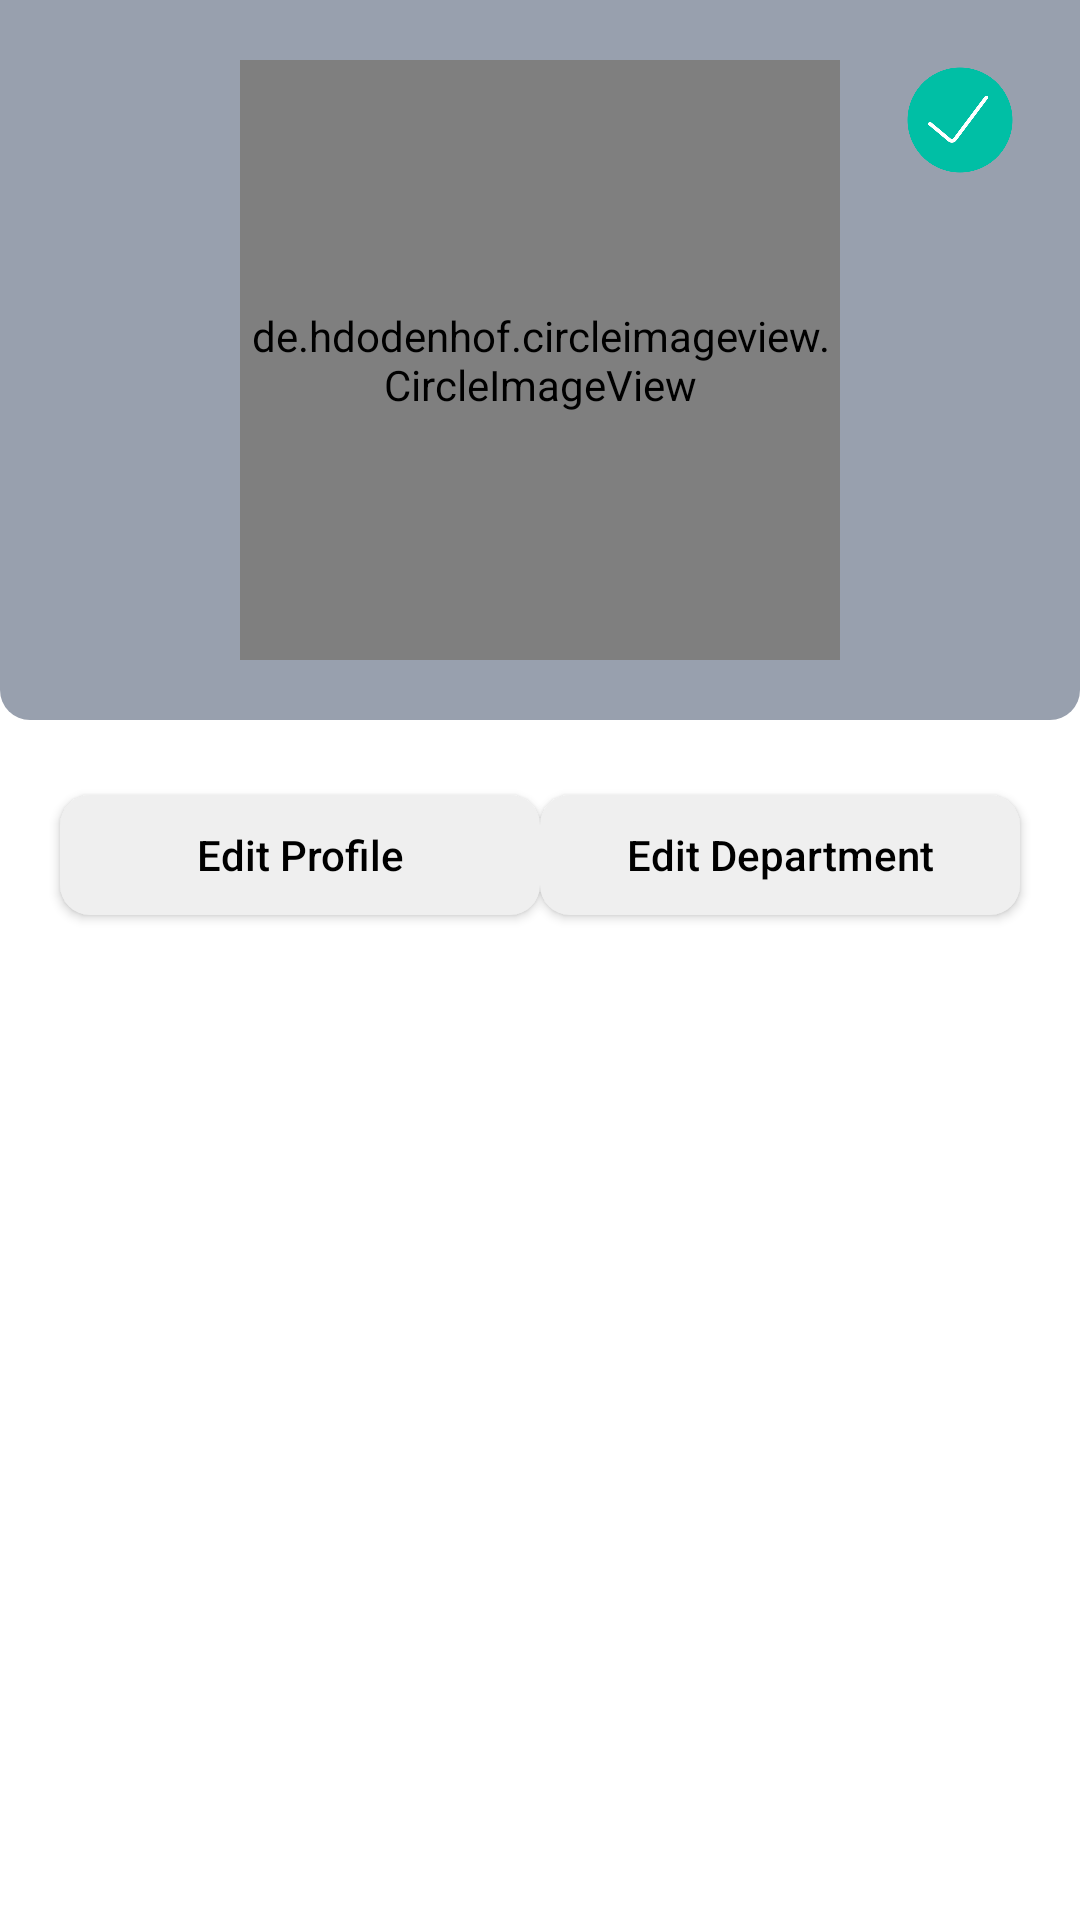

Named icons in this screenshot (1080x1920) and their centers, [x,y]:
check: [960,120]
